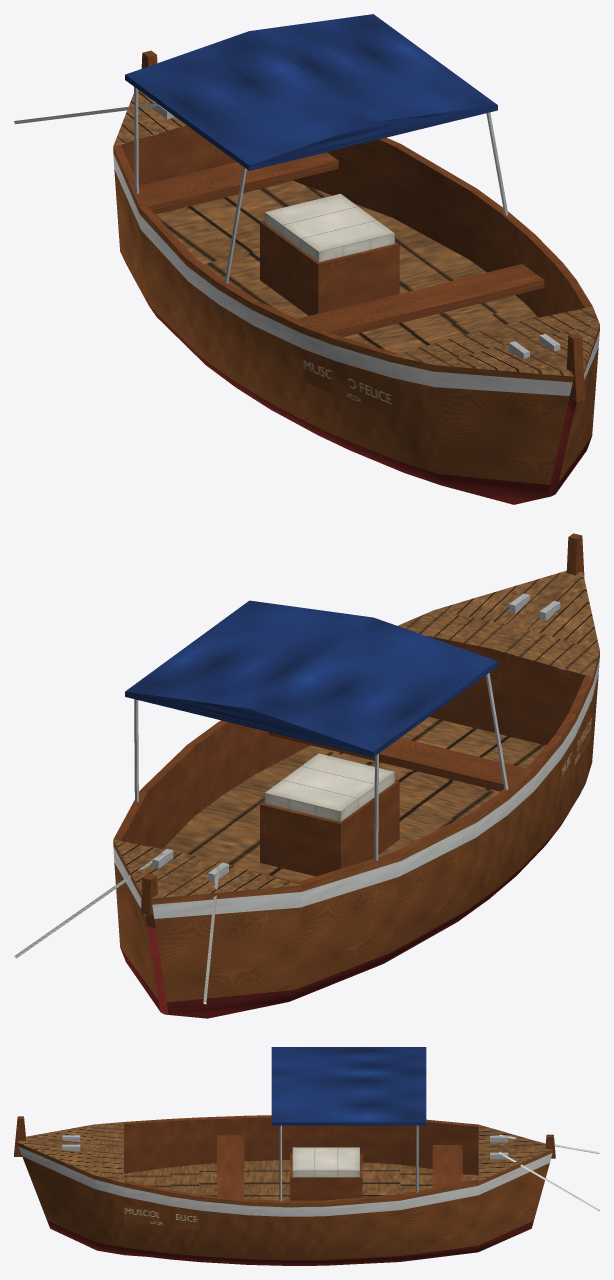
Rendered from SM_Morin_Barca_Gozzo_Legno_LOD1.fbx.
The picture shows the model from 3 angles, top to bottom: view 1: azimuth 30°, elevation 25°; view 2: azimuth 150°, elevation 25°; view 3: azimuth 270°, elevation 25°; orthographic projection. The views are drawn at different scales.
Visible parts, largest first — view 1: SM_Morin_Barca_Gozzo_Legno_LOD1; view 2: SM_Morin_Barca_Gozzo_Legno_LOD1; view 3: SM_Morin_Barca_Gozzo_Legno_LOD1.
Part boxes in pixels (box(x1,y1,x2,y2)): SM_Morin_Barca_Gozzo_Legno_LOD1: box(14, 14, 599, 504); SM_Morin_Barca_Gozzo_Legno_LOD1: box(14, 533, 599, 1018); SM_Morin_Barca_Gozzo_Legno_LOD1: box(14, 1047, 599, 1265).
Bounding box in the file's own units: 229 × 644 × 222.
1 material, 1 textured.
